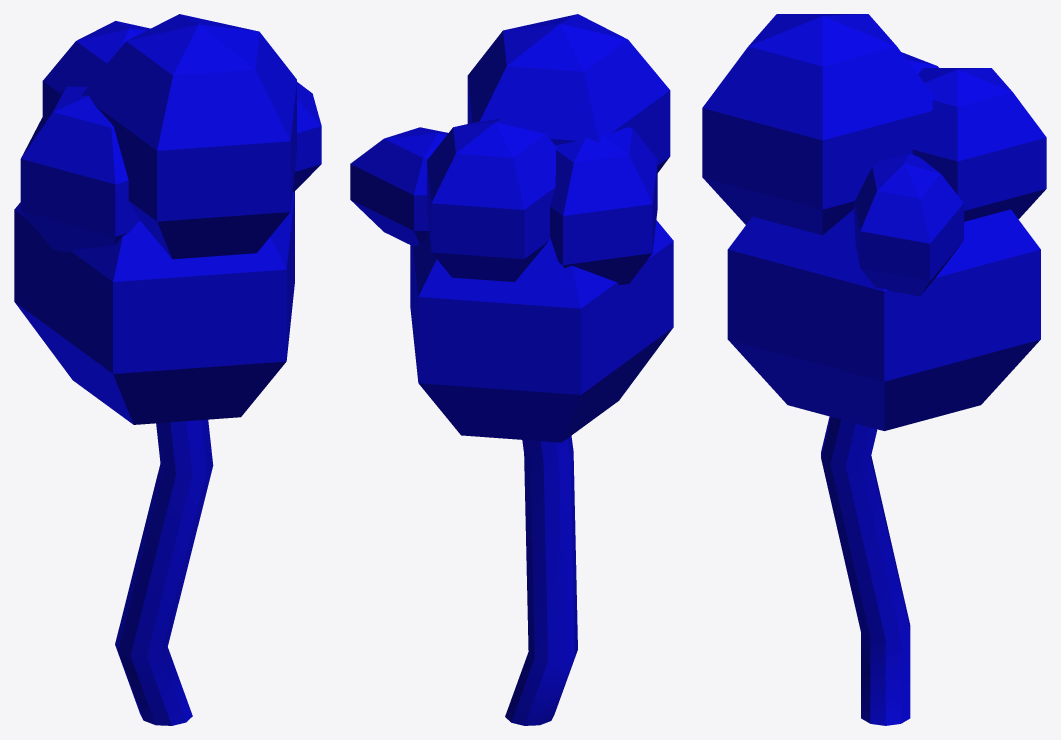
File: PH_Three_2_NewUV.fbx
3 renders of one model, left to right at view 1: azimuth 30°, elevation 25°; view 2: azimuth 150°, elevation 25°; view 3: azimuth 270°, elevation 25°, orthographic. The views are drawn at different scales.
Visible parts, largest first — view 1: pCylinder5; view 2: pCylinder5; view 3: pCylinder5.
Boxes of the visible parts, left/top/right/bottom form: pCylinder5: left=14, top=14, right=321, bottom=725; pCylinder5: left=350, top=14, right=673, bottom=725; pCylinder5: left=702, top=14, right=1046, bottom=725.
Size of the model in its own units: 1.34 by 2.97 by 1.33.
